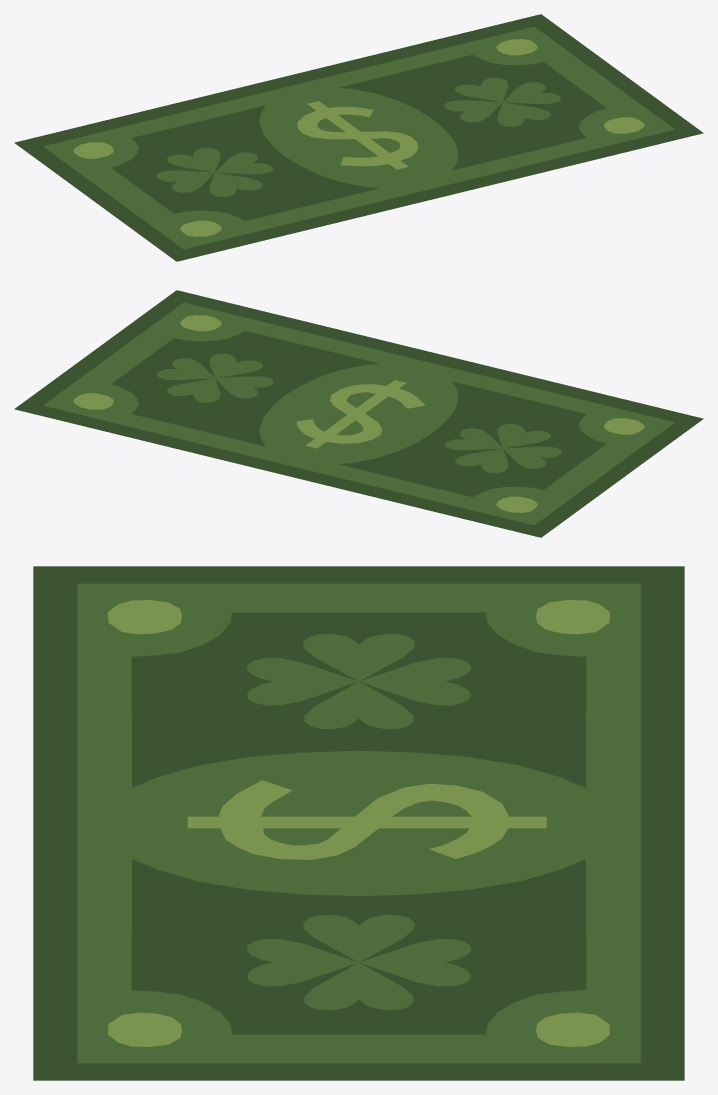
Rendered from PaperMoney_02.fbx.
3 views of the same model, one above another, from view 1: azimuth 30°, elevation 25°; view 2: azimuth 150°, elevation 25°; view 3: azimuth 270°, elevation 25° (orthographic). The views are drawn at different scales.
Visible parts, largest first — view 1: PaperMoney_02; view 2: PaperMoney_02; view 3: PaperMoney_02.
Part boxes in pixels (x1,y1,x2,y2): PaperMoney_02: (14,14,703,261); PaperMoney_02: (14,290,703,537); PaperMoney_02: (33,566,684,1080).
Size of the model in its own units: 0.208 by 0.00066 by 0.1112.
